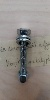FinishedAssembly: (13, 25, 35, 86)
